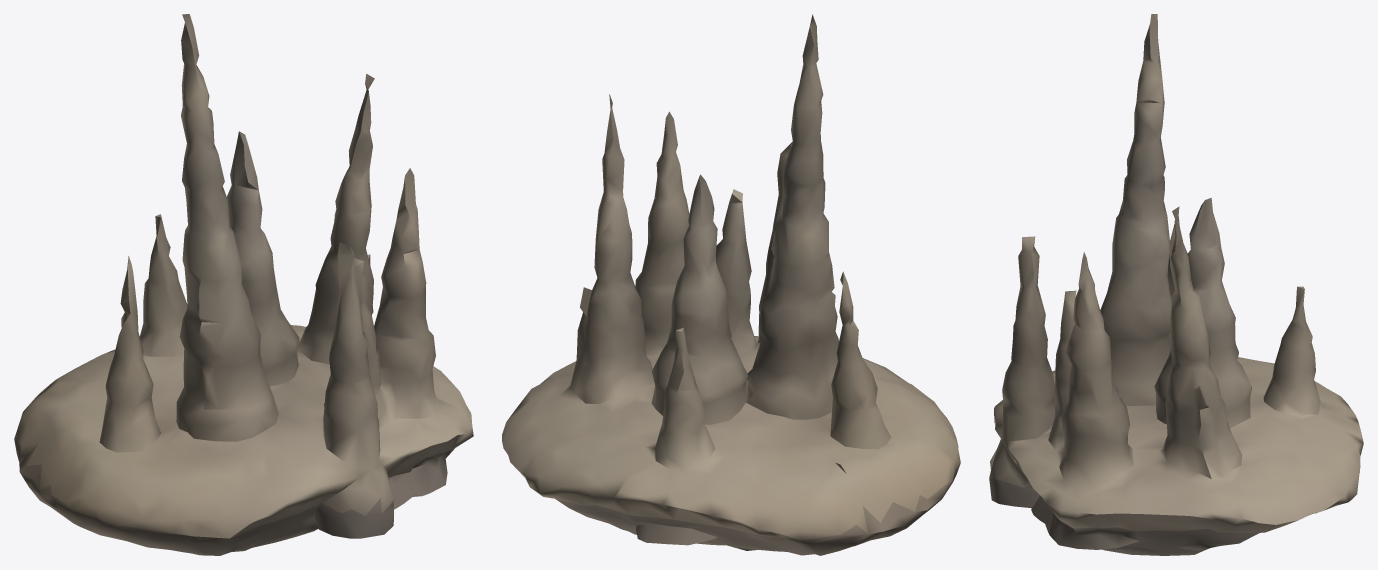
The model's file is stalagmite_cluster_b.glb.
3 renders of one model, left to right at view 1: azimuth 30°, elevation 25°; view 2: azimuth 150°, elevation 25°; view 3: azimuth 270°, elevation 25°, orthographic. The views are drawn at different scales.
Parts seen in each view (by area): view 1: stalagmite_cluster_b; view 2: stalagmite_cluster_b; view 3: stalagmite_cluster_b.
Part boxes in pixels (left/top/right/bottom): stalagmite_cluster_b: left=14, top=14, right=473, bottom=555; stalagmite_cluster_b: left=502, top=14, right=960, bottom=555; stalagmite_cluster_b: left=989, top=14, right=1363, bottom=555.
Size of the model in its own units: 1.06 by 1.33 by 0.966.
